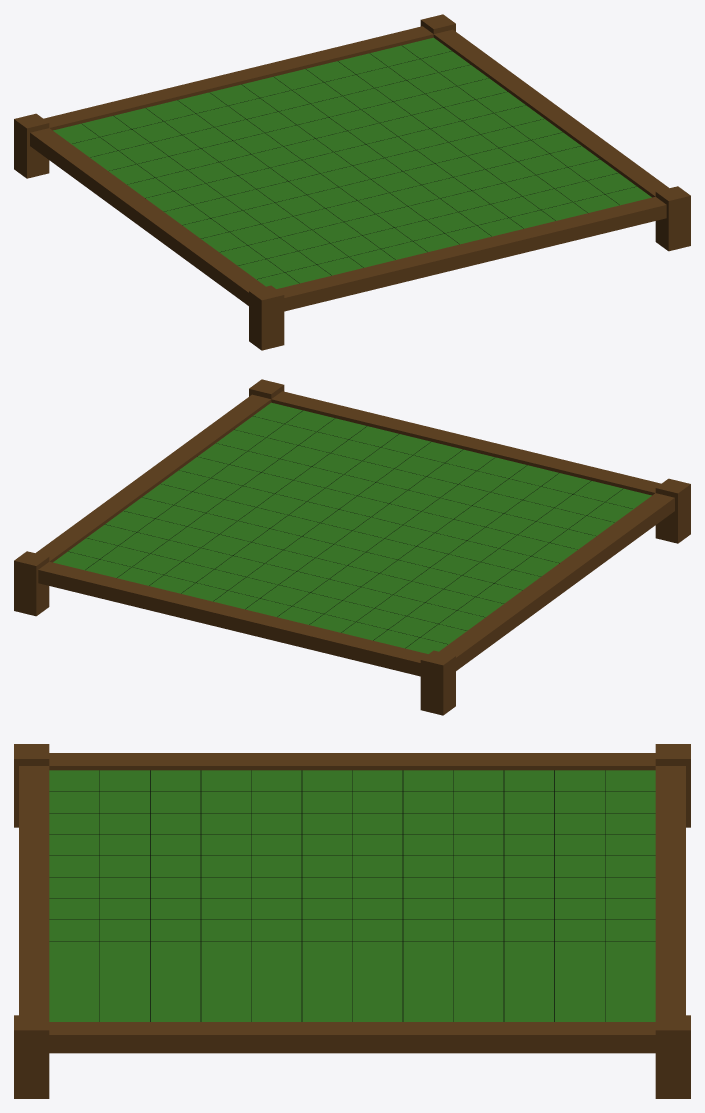
The model's file is GameArea.fbx.
3 renders of one model, top to bottom at view 1: azimuth 30°, elevation 25°; view 2: azimuth 150°, elevation 25°; view 3: azimuth 270°, elevation 25°, orthographic. The views are drawn at different scales.
Visible parts, largest first — view 1: Bottom; view 2: Bottom; view 3: Bottom.
Part boxes in pixels (bbox=[...]): Bottom: bbox=[14, 14, 690, 350]; Bottom: bbox=[14, 379, 690, 715]; Bottom: bbox=[14, 744, 690, 1098].
Bounding box in the file's own units: 1340 × 150 × 1340.
